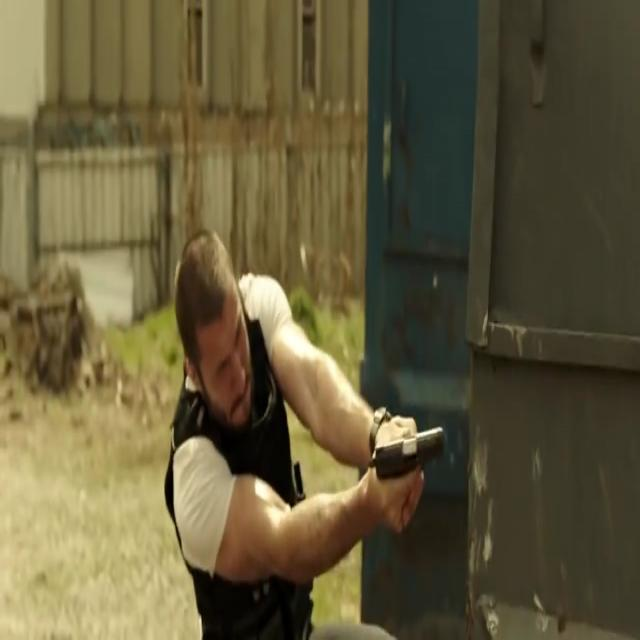Weapon: (356, 390, 451, 502)
